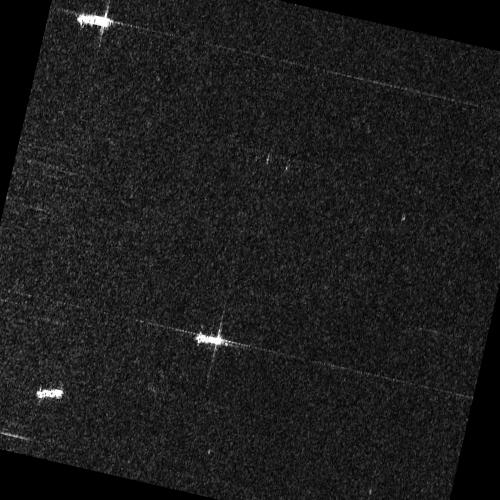ship: (77, 12, 112, 28), (193, 331, 224, 347), (34, 388, 64, 400)
